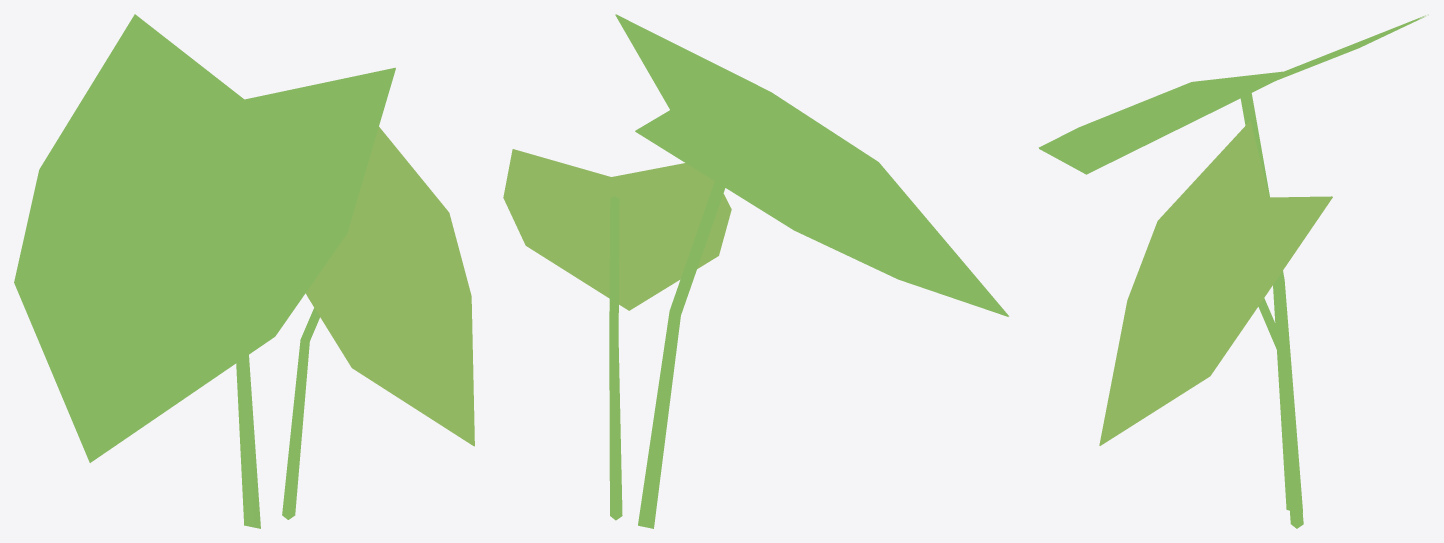
File: Plant_c_TwoS_02.fbx
The picture shows the model from 3 angles, left to right: view 1: azimuth 30°, elevation 25°; view 2: azimuth 150°, elevation 25°; view 3: azimuth 270°, elevation 25°; orthographic projection. The views are drawn at different scales.
Visible parts, largest first — view 1: Plant_c_TwoS_02; view 2: Plant_c_TwoS_02; view 3: Plant_c_TwoS_02.
Boxes of the visible parts, x1,y1,x2,y2 form: Plant_c_TwoS_02: (14, 14, 474, 528); Plant_c_TwoS_02: (503, 14, 1009, 528); Plant_c_TwoS_02: (1038, 14, 1428, 528).
Size of the model in its own units: 0.561 by 0.5727 by 0.432.
